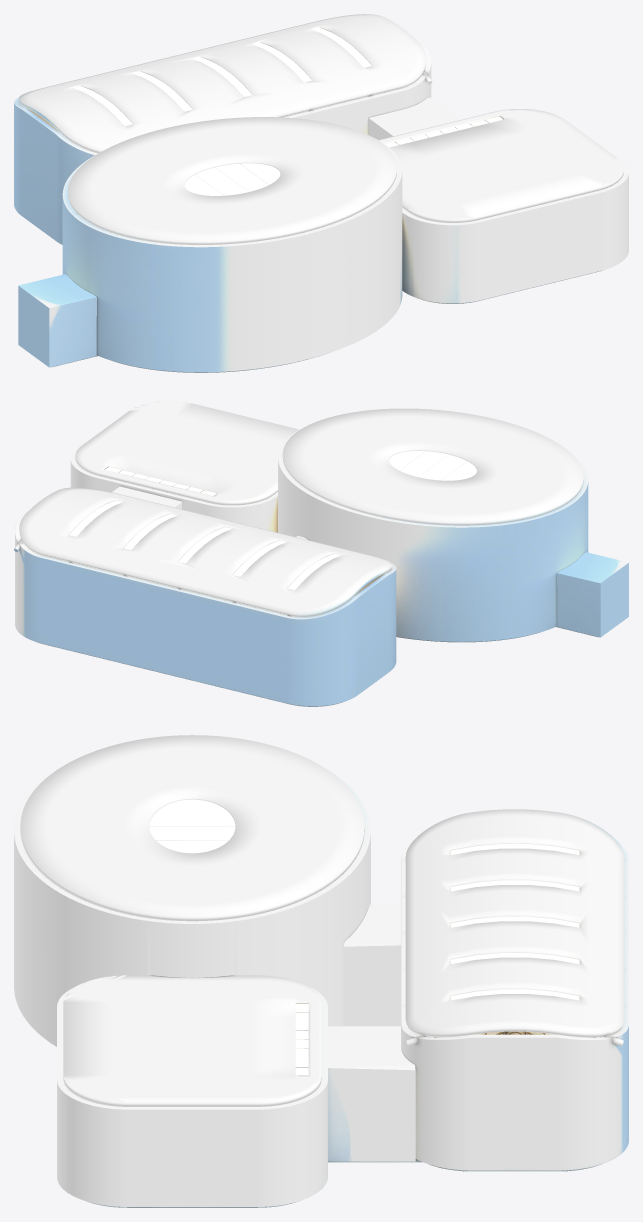
The model's file is sculpture-pavilion-desktop.glb.
3 renders of one model, top to bottom at view 1: azimuth 30°, elevation 25°; view 2: azimuth 150°, elevation 25°; view 3: azimuth 270°, elevation 25°, orthographic. The views are drawn at different scales.
Parts seen in each view (by area): view 1: A_architecture_transport, B_architecture_transport, C_architecture_transport, A roof glazing, C roof glazing, B roof glazing; view 2: C_architecture_transport, A_architecture_transport, B_architecture_transport, A roof glazing, C roof glazing, B roof glazing; view 3: A_architecture_transport, B_architecture_transport, C_architecture_transport, A roof glazing, C roof glazing, B roof glazing.
Part boxes in pixels (x1=…): A_architecture_transport: x1=18, y1=117, x2=413, y2=372; B_architecture_transport: x1=368, y1=97, x2=628, y2=303; C_architecture_transport: x1=14, y1=14, x2=432, y2=244; A roof glazing: x1=184, y1=163, x2=280, y2=195; C roof glazing: x1=74, y1=28, x2=371, y2=126; B roof glazing: x1=385, y1=116, x2=503, y2=147; C_architecture_transport: x1=14, y1=487, x2=396, y2=706; A_architecture_transport: x1=267, y1=408, x2=628, y2=641; B_architecture_transport: x1=70, y1=401, x2=300, y2=570; A roof glazing: x1=389, y1=451, x2=476, y2=480; C roof glazing: x1=69, y1=500, x2=341, y2=589; B roof glazing: x1=105, y1=467, x2=216, y2=495; A_architecture_transport: x1=14, y1=735, x2=400, y2=1046; B_architecture_transport: x1=57, y1=918, x2=415, y2=1206; C_architecture_transport: x1=401, y1=809, x2=628, y2=1170; A roof glazing: x1=149, y1=799, x2=235, y2=853; C roof glazing: x1=450, y1=844, x2=579, y2=1000; B roof glazing: x1=295, y1=1003, x2=308, y2=1075.
Bounding box in the file's own units: 37.6 × 8.4 × 28.6.
Materials: 35 (33 with a texture image).
